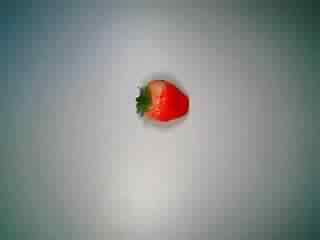strawberry: (127, 71, 193, 133)
